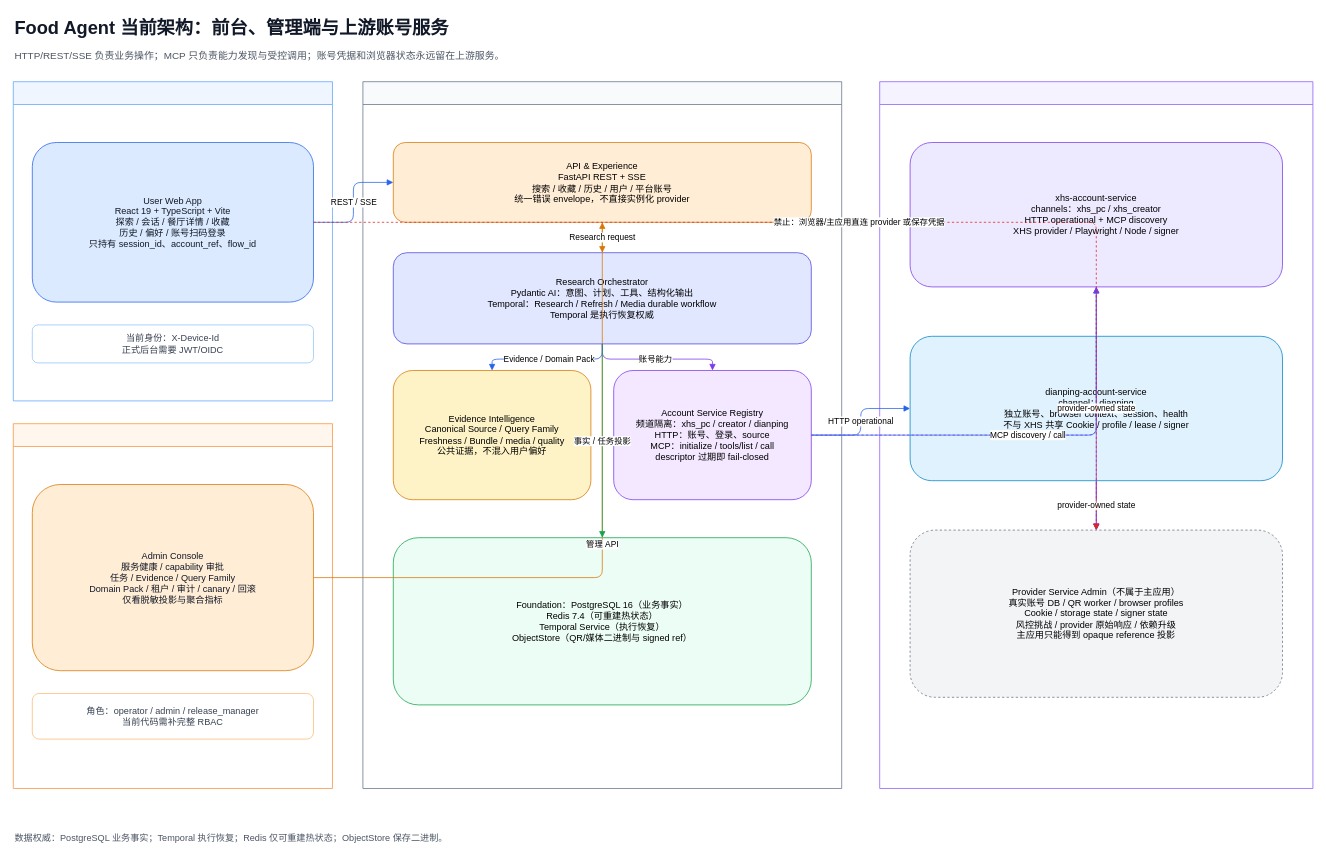
This 1326x862 diagram has some shape labels left out. The box of each missing label's shape, as (x1, y1, x2, y2) in pixels:
上游账号微服务 · 独立部署: (879, 81, 1313, 788)
主应用 · Food Agent: (362, 81, 842, 788)
主应用管理端 · Console: (13, 423, 332, 788)
前台用户端 · Browser: (13, 81, 332, 401)
